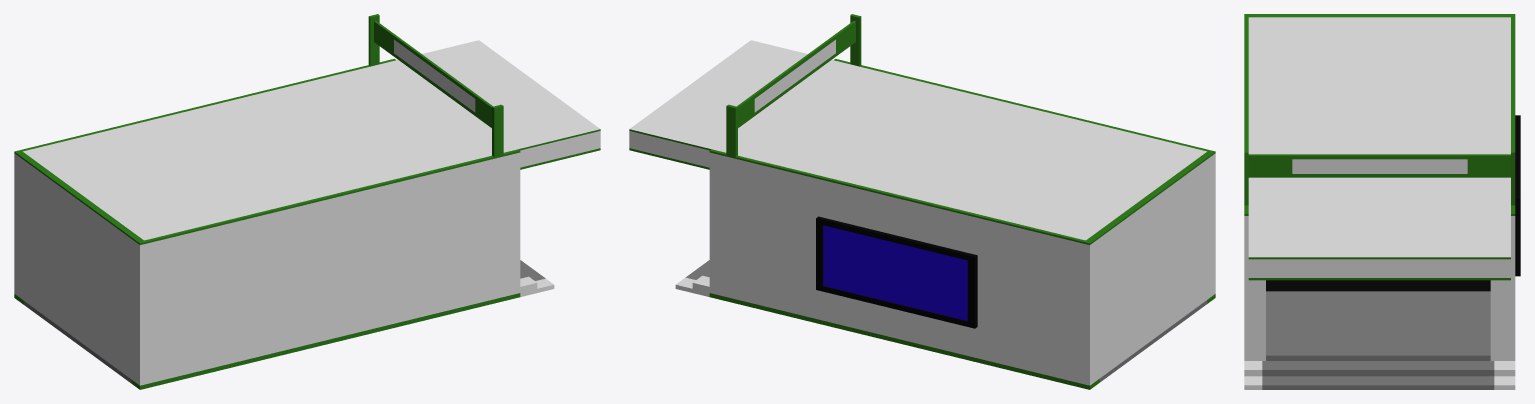
Rendered from Metro.fbx.
The picture shows the model from 3 angles, left to right: view 1: azimuth 30°, elevation 25°; view 2: azimuth 150°, elevation 25°; view 3: azimuth 270°, elevation 25°; orthographic projection. The views are drawn at different scales.
Parts seen in each view (by area): view 1: Cube.001; view 2: Cube.001; view 3: Cube.001.
Part boxes in pixels (x1,y1,x2,y2): Cube.001: (14,14,600,389); Cube.001: (629,14,1215,389); Cube.001: (1244,14,1520,389).
Size of the model in its own units: 3031 by 1222 by 1455.
